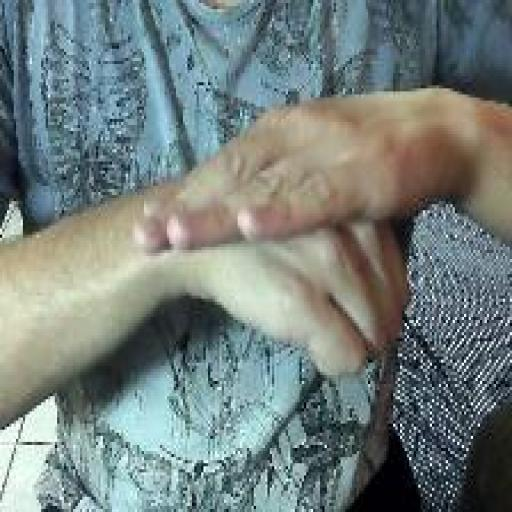Inu -dog-: (130, 94, 414, 384)
